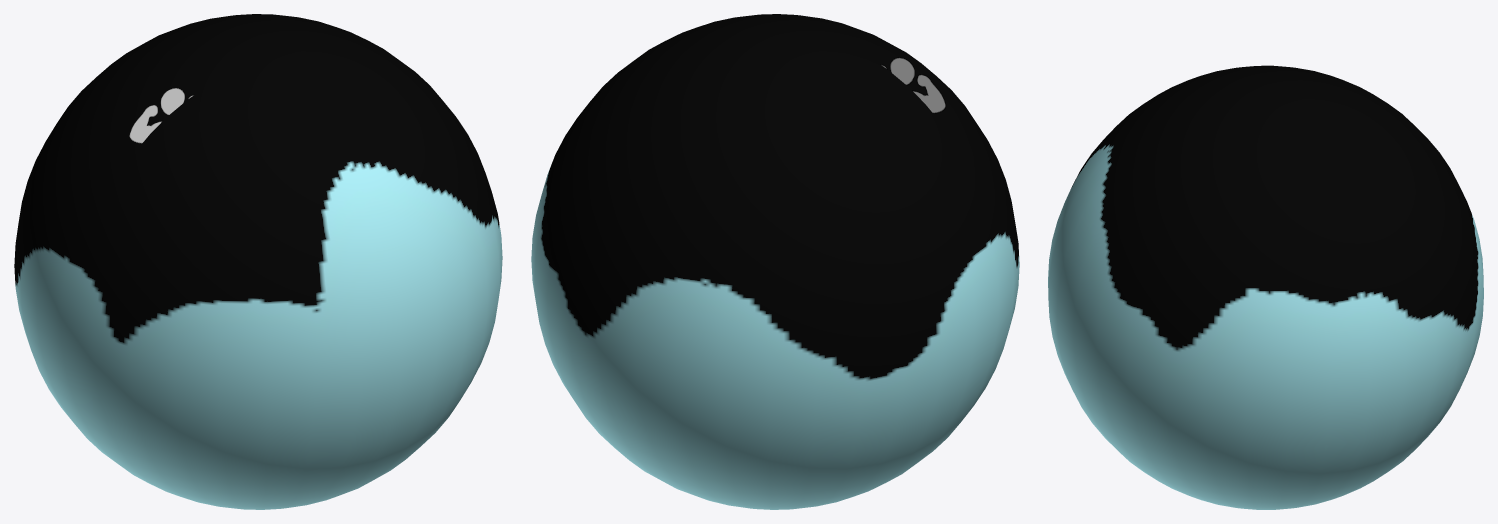
The model's file is shield.fbx.
3 renders of one model, left to right at view 1: azimuth 30°, elevation 25°; view 2: azimuth 150°, elevation 25°; view 3: azimuth 270°, elevation 25°, orthographic. The views are drawn at different scales.
Parts seen in each view (by area): view 1: protect_sphere, str_icon; view 2: protect_sphere, str_icon; view 3: protect_sphere.
Boxes of the visible parts, box(x1,y1,x2,y2) form: protect_sphere: box(14, 14, 502, 509); str_icon: box(129, 87, 194, 144); protect_sphere: box(531, 14, 1019, 509); str_icon: box(880, 57, 946, 113); protect_sphere: box(1048, 65, 1483, 509).
Bounding box in the file's own units: 173 × 180 × 173.
2 materials, 2 textured.
